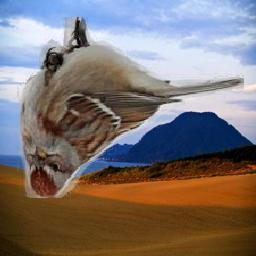Sparrow: (18, 18, 245, 199)
